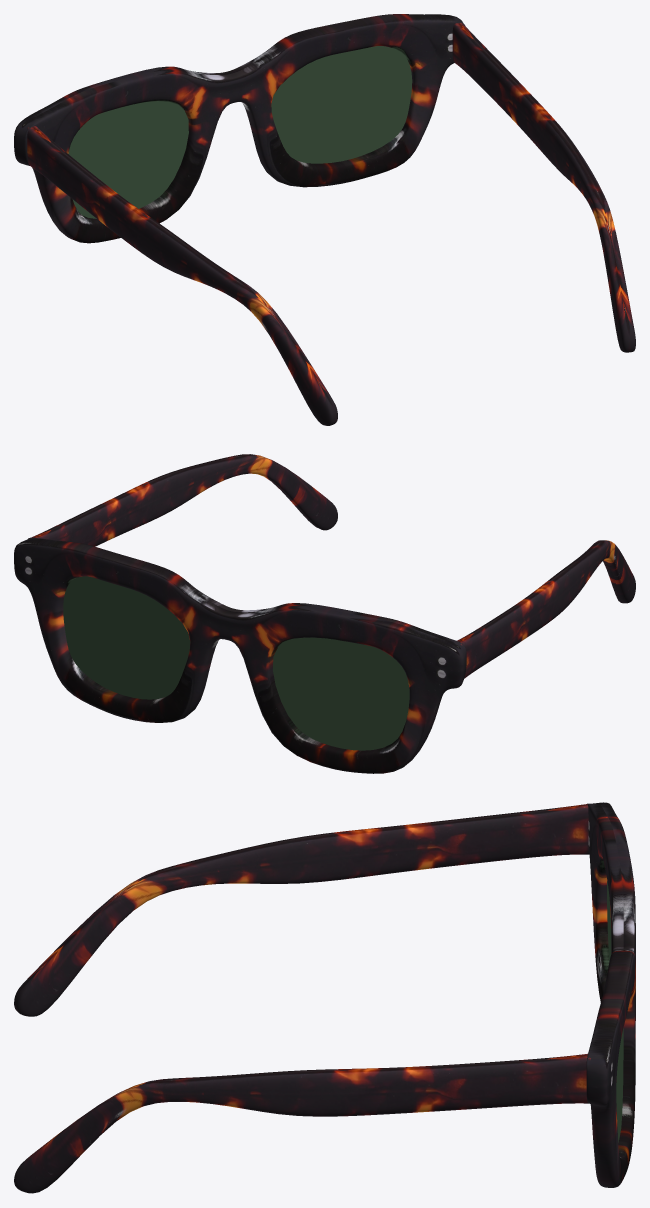
File: glasses.fbx
The picture shows the model from 3 angles, top to bottom: view 1: azimuth 30°, elevation 25°; view 2: azimuth 150°, elevation 25°; view 3: azimuth 270°, elevation 25°; orthographic projection. The views are drawn at different scales.
Visible parts, largest first — view 1: Cube.002; view 2: Cube.002; view 3: Cube.002.
Part boxes in pixels (x1,y1,x2,y2): Cube.002: (14,14,635,425); Cube.002: (14,454,635,773); Cube.002: (14,802,635,1193).
Bounding box in the file's own units: 452 × 151 × 450.
